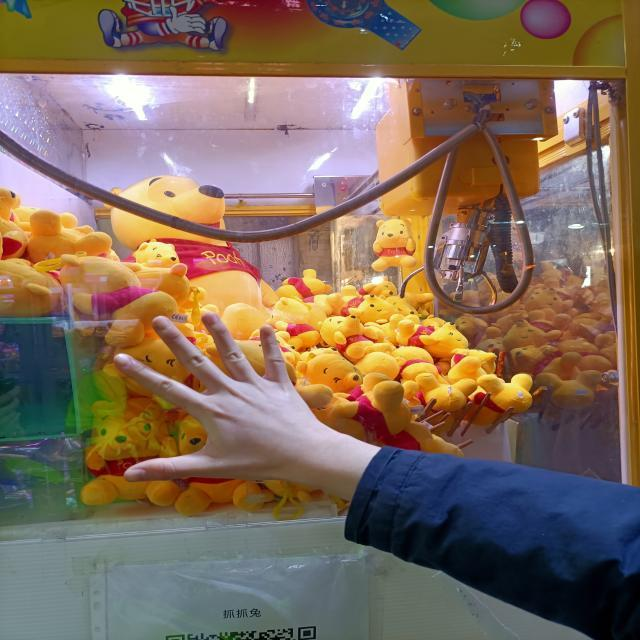Hand: (107, 310, 395, 510)
